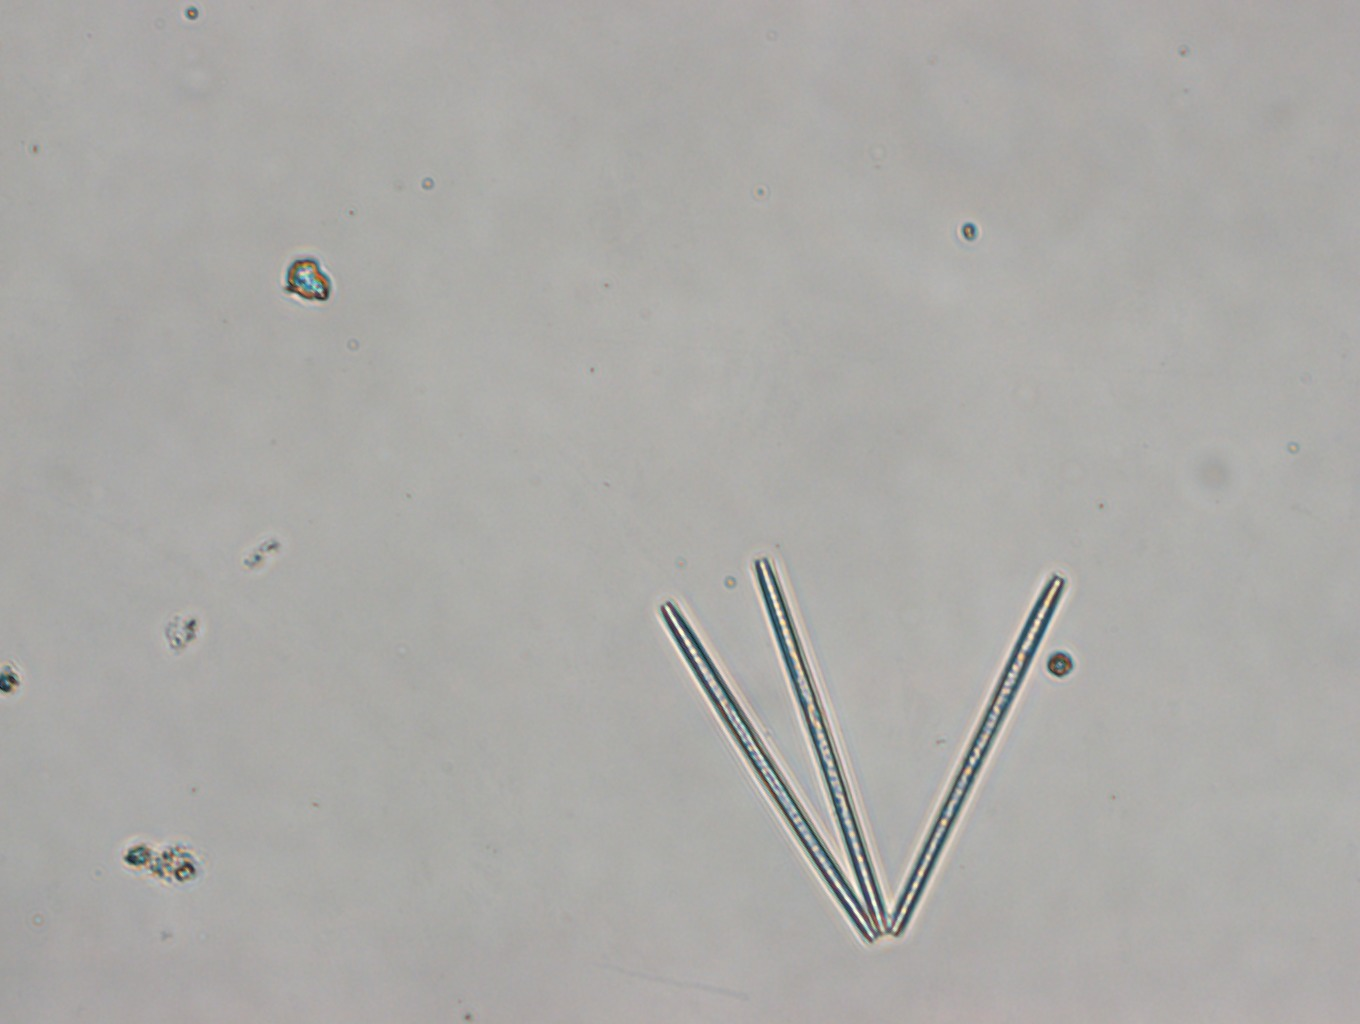thalassionema frauenfeldii: (657, 553, 1071, 947)
